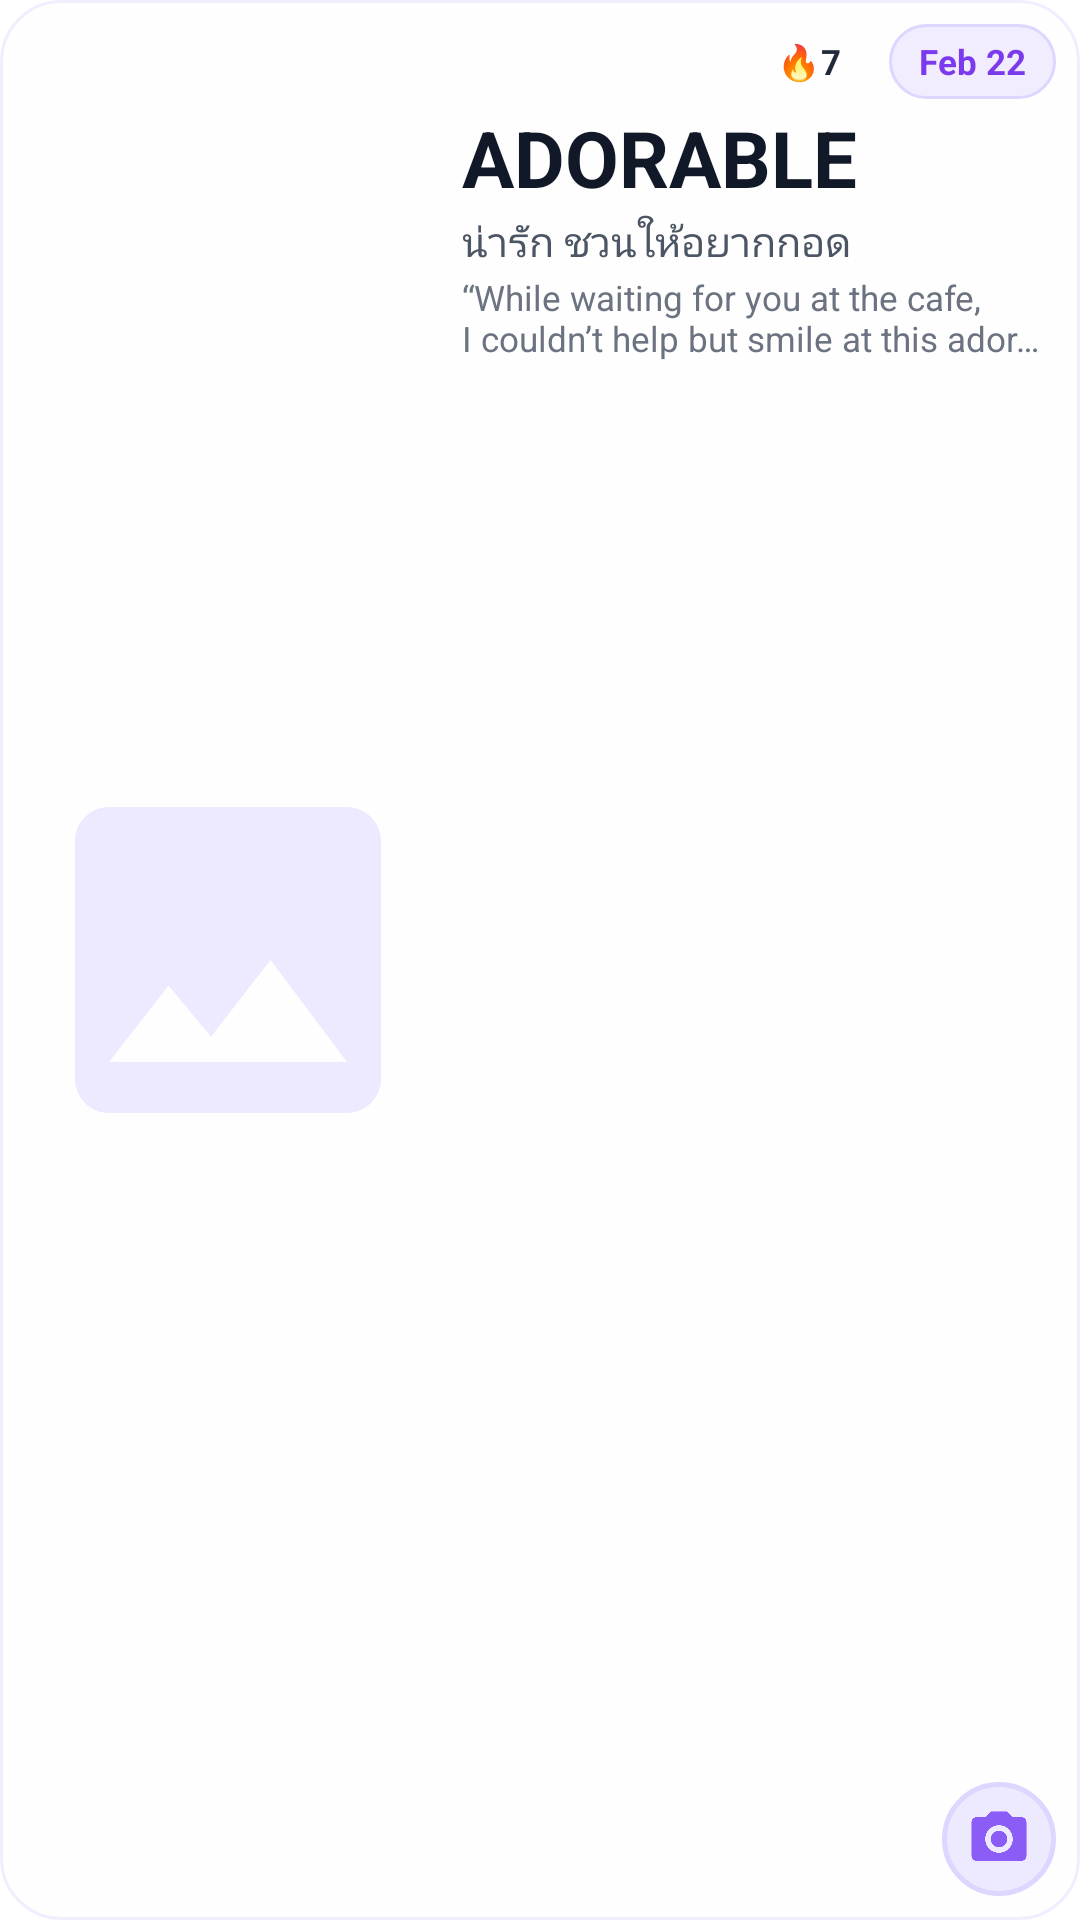

Icon bounding boxes for this 1080 x 1920 phone screenshot, format (x1, y1, x2, y2):
Take photo: (942, 1782, 1056, 1896)
